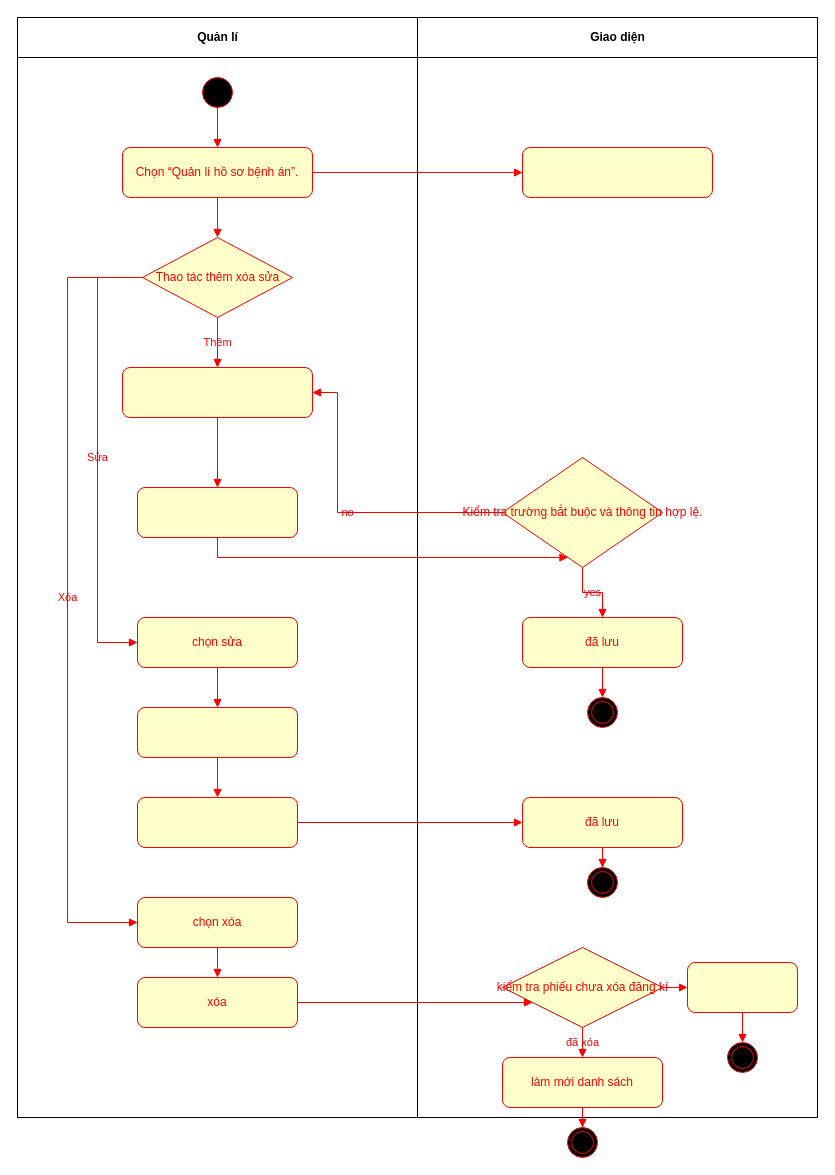
This 835x1175 diagram has some shape labels left out. The shapes that lost their labels are listed below. From the top down, each one's centre as x and y in pixels, then its label:
At point (617, 172): "Hiển thị danh sách hồ sơ bệnh án trên giao diện.".
At point (217, 392): "Chọn “Thêm”, nhập thông tin.".
At point (217, 512): "nhấn lưu".
At point (217, 732): "sửa thông tin".
At point (217, 822): "lưu".
At point (742, 987): "ko cho xóa".
